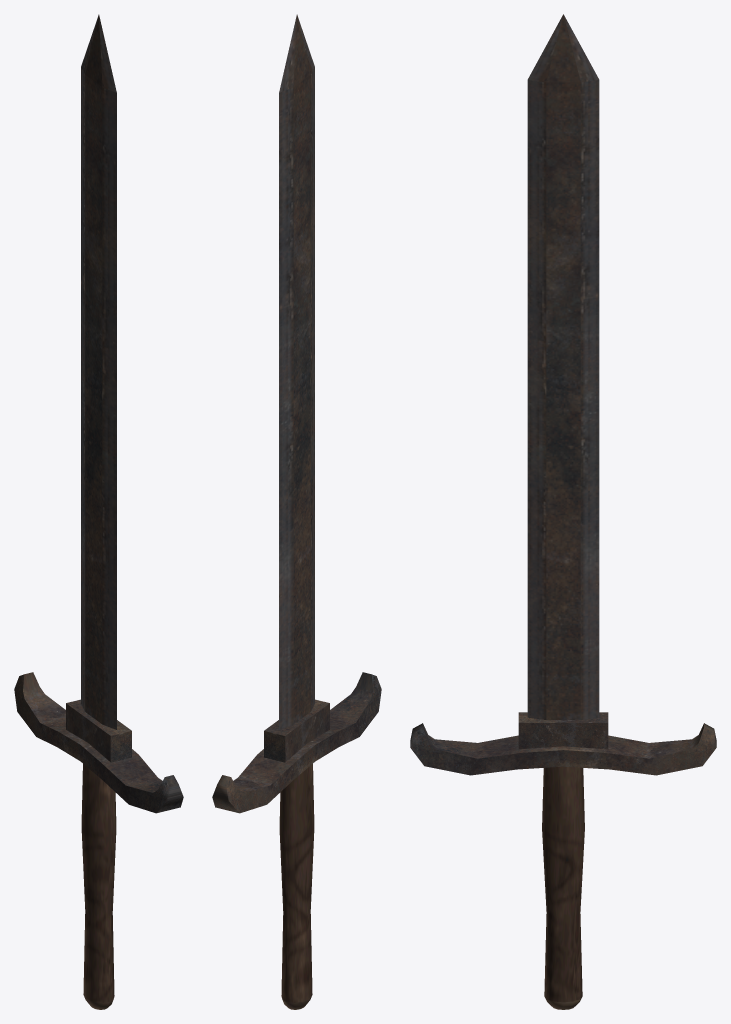
Rendered from Sword.fbx.
3 renders of one model, left to right at view 1: azimuth 30°, elevation 25°; view 2: azimuth 150°, elevation 25°; view 3: azimuth 270°, elevation 25°, orthographic.
Visible parts, largest first — view 1: Cylinder.003; view 2: Cylinder.003; view 3: Cylinder.003.
Boxes of the visible parts, x1,y1,x2,y2 form: Cylinder.003: (14, 14, 183, 1009); Cylinder.003: (212, 14, 381, 1009); Cylinder.003: (410, 14, 716, 1009).
Bounding box in the file's own units: 0.141 × 1.02 × 3.65.
